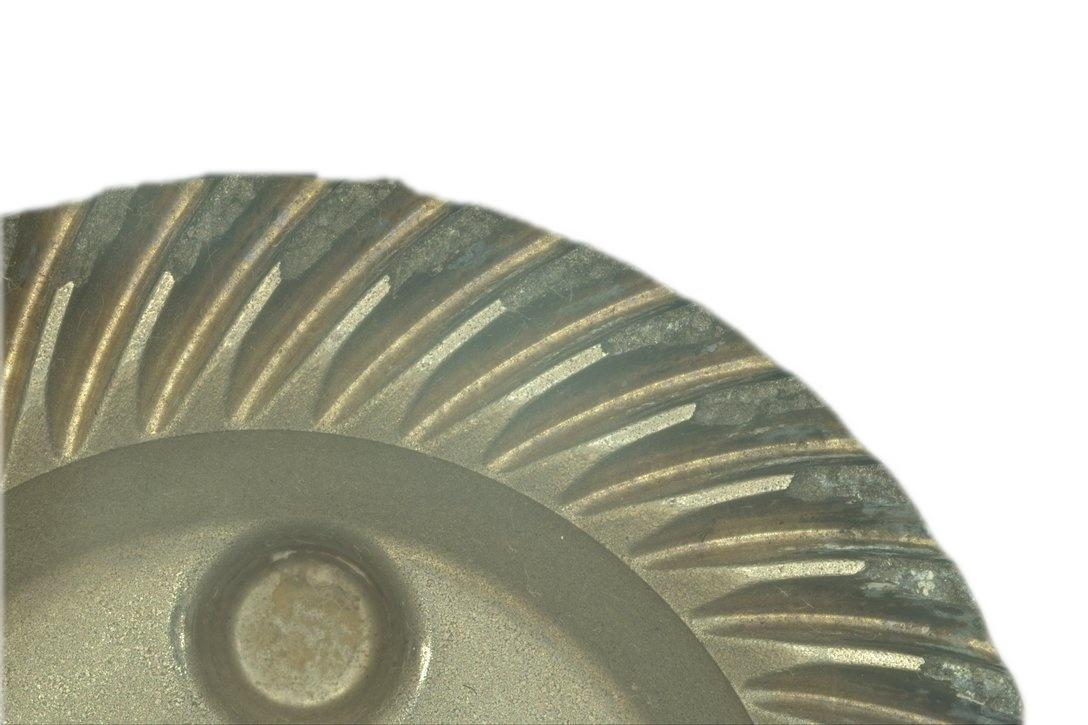defect: (280, 183, 388, 277), (170, 176, 268, 276), (862, 557, 985, 635), (391, 207, 505, 288), (695, 375, 844, 429), (501, 245, 626, 308), (789, 464, 918, 519), (65, 188, 134, 286), (604, 303, 732, 353), (926, 664, 1021, 721), (0, 215, 21, 277)
